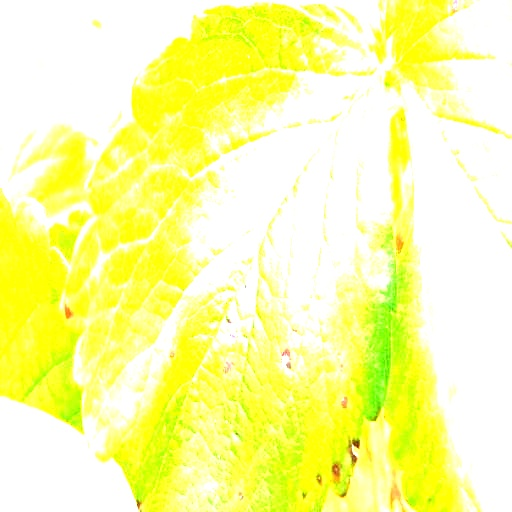Leaf Spot: (60, 0, 399, 511), (395, 0, 511, 511), (383, 217, 484, 511)
